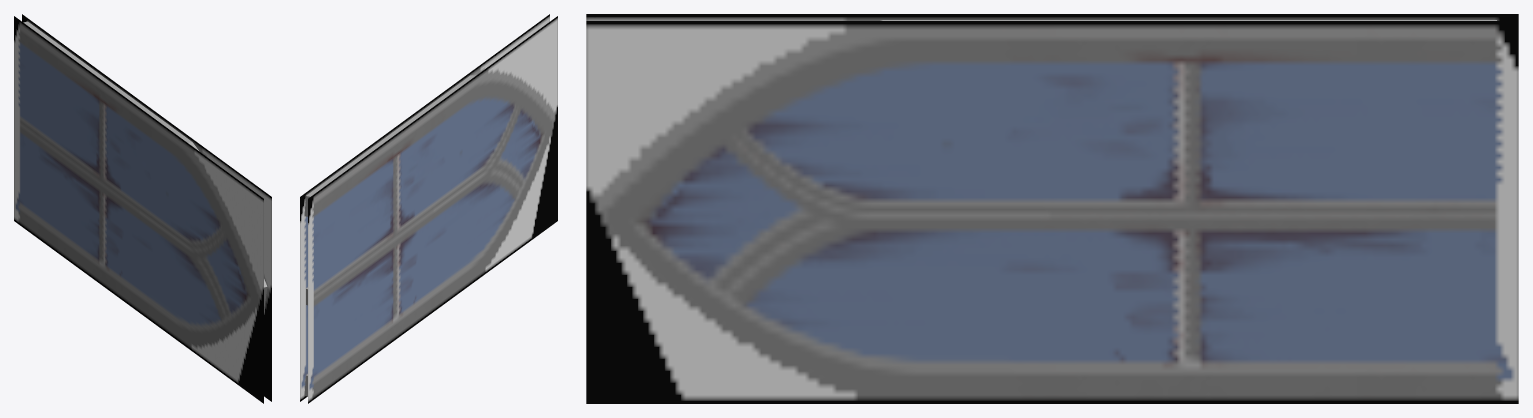
Rendered from pz_native_location_community_church_small_01_112_frame.obj.
The picture shows the model from 3 angles, left to right: view 1: azimuth 30°, elevation 25°; view 2: azimuth 150°, elevation 25°; view 3: azimuth 270°, elevation 25°; orthographic projection. The views are drawn at different scales.
Parts seen in each view (by area): view 1: pz_native_location_community_church_small_01_112_frame; view 2: pz_native_location_community_church_small_01_112_frame; view 3: pz_native_location_community_church_small_01_112_frame.
Part boxes in pixels (<box>): pz_native_location_community_church_small_01_112_frame: <box>14,14,271,403</box>; pz_native_location_community_church_small_01_112_frame: <box>300,14,557,403</box>; pz_native_location_community_church_small_01_112_frame: <box>586,14,1518,403</box>.
Size of the model in its own units: 0.04 by 1 by 2.21.
Materials: 1 (1 with a texture image).
